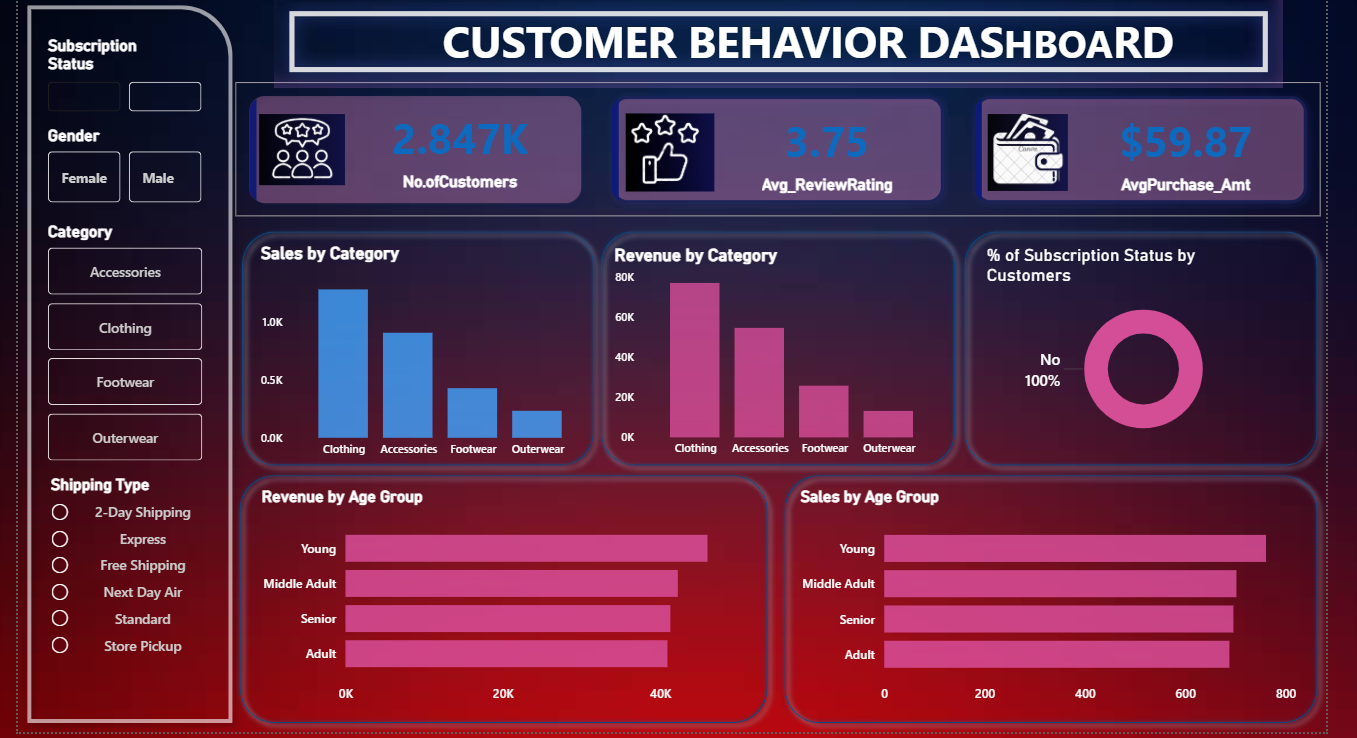

Layout of this report page (visuals, bound fields, positions):
{"tool":"powerbi","page":{"name":"Page 1","canvas":[1280,720],"ordinal":0},"visuals":[{"type":"cardVisual","fields":{"Data":["customer_behavior customer_shopping.No.ofCustomers","customer_behavior customer_shopping.Avg_ReviewRating","customer_behavior customer_shopping.AvgPurchase_Amt"]},"box":[207.9,79.5,1072.4,141.8],"z":0},{"type":"shape","box":[250.7,0,986.8,89.3],"z":1000},{"type":"textbox","box":[338.7,9.8,868.2,89.3],"z":2000},{"type":"shape","box":[917.1,221.3,363.2,247],"z":3000},{"type":"donutChart","title":"% of Subscription Status by Customers","fields":{"Category":["customer_behavior customer_shopping.subscription_status"],"Y":["CountNonNull(customer_behavior customer_shopping.customer_id)"]},"box":[942.8,243.3,316.7,201.8],"z":4000},{"type":"shape","box":[561.3,221.3,364.4,247],"z":5000},{"type":"shape","box":[210.3,221.3,362,247],"z":6000},{"type":"clusteredColumnChart","title":"Revenue by Category","fields":{"Category":["customer_behavior customer_shopping.category"],"Y":["Sum(customer_behavior customer_shopping.purchase_amount)"]},"box":[579.6,240.9,325.3,218.9],"z":7000},{"type":"clusteredColumnChart","title":"Sales by Category","fields":{"Category":["customer_behavior customer_shopping.category"],"Y":["CountNonNull(customer_behavior customer_shopping.customer_id)"]},"box":[233.6,237.2,327.7,222.6],"z":8000},{"type":"shape","box":[0,0,218.9,720.2],"z":9000},{"type":"advancedSlicerVisual","title":"Subscription Status","fields":{"Values":["customer_behavior customer_shopping.subscription_status"]},"box":[24.5,39.1,161.4,79.5],"z":10000},{"type":"advancedSlicerVisual","title":"Category","fields":{"Values":["customer_behavior customer_shopping.category"]},"box":[24.1,220.8,161.7,238.9],"z":11000},{"type":"listSlicer","title":"Shipping Type","fields":{"Values":["customer_behavior customer_shopping.shipping_type"]},"box":[27.7,468.1,164.1,232.8],"z":12000},{"type":"advancedSlicerVisual","title":"Gender","fields":{"Values":["customer_behavior customer_shopping.gender"]},"box":[24.5,127.2,161.4,80.7],"z":13000},{"type":"shape","box":[207.9,459.8,534.4,260.5],"z":14000},{"type":"clusteredBarChart","title":"Revenue by Age Group","fields":{"Y":["Sum(customer_behavior customer_shopping.purchase_amount)"],"Category":["customer_behavior customer_shopping.age_group"]},"box":[233.6,480.6,487.9,220.1],"z":15000},{"type":"shape","box":[741,459.8,539.3,260.5],"z":16000},{"type":"clusteredBarChart","title":"Sales by Age Group","fields":{"Category":["customer_behavior customer_shopping.age_group"],"Y":["CountNonNull(customer_behavior customer_shopping.customer_id)"]},"box":[760.1,480.2,494.6,220.8],"z":17000}]}

Visuals, with their boxes on the page's 1280x720 design canvas (x1, y1, x2, y2). These are canvas units, not pixel positions in the 1357x738 screenshot, which may show the page scaled, cropped or inside an application window:
cardVisual - customer_behavior customer_shopping.No.ofCustomers x customer_behavior customer_shopping.Avg_ReviewRating: BBox(208, 80, 1280, 221)
shape: BBox(251, 0, 1238, 89)
textbox: BBox(339, 10, 1207, 99)
shape: BBox(917, 221, 1280, 468)
"% of Subscription Status by Customers" donutChart: BBox(943, 243, 1260, 445)
shape: BBox(561, 221, 926, 468)
shape: BBox(210, 221, 572, 468)
"Revenue by Category" clusteredColumnChart: BBox(580, 241, 905, 460)
"Sales by Category" clusteredColumnChart: BBox(234, 237, 561, 460)
shape: BBox(0, 0, 219, 720)
"Subscription Status" advancedSlicerVisual: BBox(24, 39, 186, 119)
"Category" advancedSlicerVisual: BBox(24, 221, 186, 460)
"Shipping Type" listSlicer: BBox(28, 468, 192, 701)
"Gender" advancedSlicerVisual: BBox(24, 127, 186, 208)
shape: BBox(208, 460, 742, 720)
"Revenue by Age Group" clusteredBarChart: BBox(234, 481, 722, 701)
shape: BBox(741, 460, 1280, 720)
"Sales by Age Group" clusteredBarChart: BBox(760, 480, 1255, 701)
